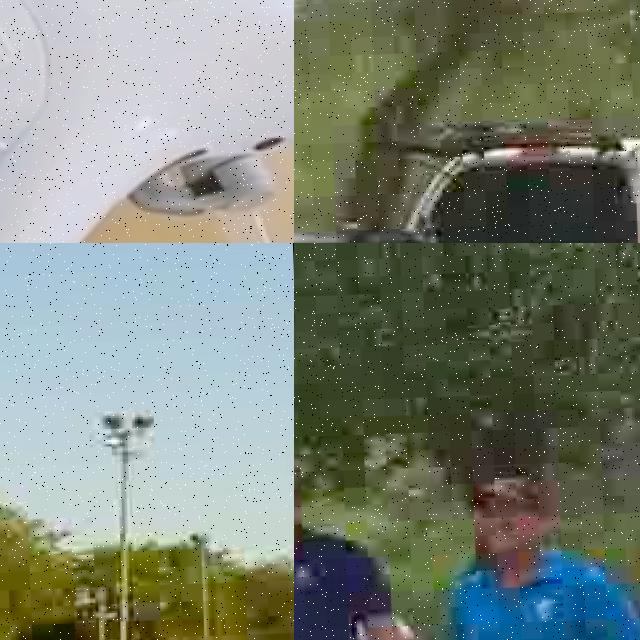drone: (0, 0, 294, 243)
